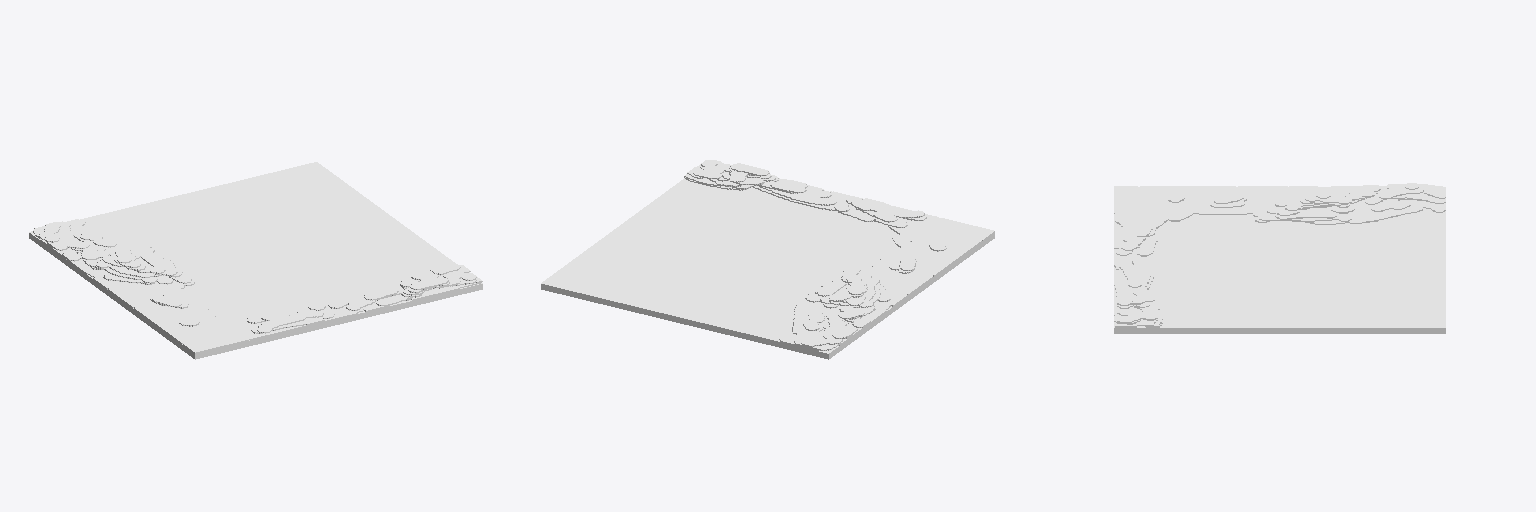
File: land-sand-0.obj
The picture shows the model from 3 angles: view 1: azimuth 30°, elevation 25°; view 2: azimuth 150°, elevation 25°; view 3: azimuth 270°, elevation 25°; orthographic projection.
Visible parts, largest first — view 1: object 1; view 2: object 1; view 3: object 1.
Boxes of the visible parts, box(x1,y1,x2,y2) form: object 1: box(29, 162, 482, 359); object 1: box(541, 160, 994, 359); object 1: box(1114, 183, 1445, 333).
Bounding box in the file's own units: 25.6 × 1.3 × 25.6.